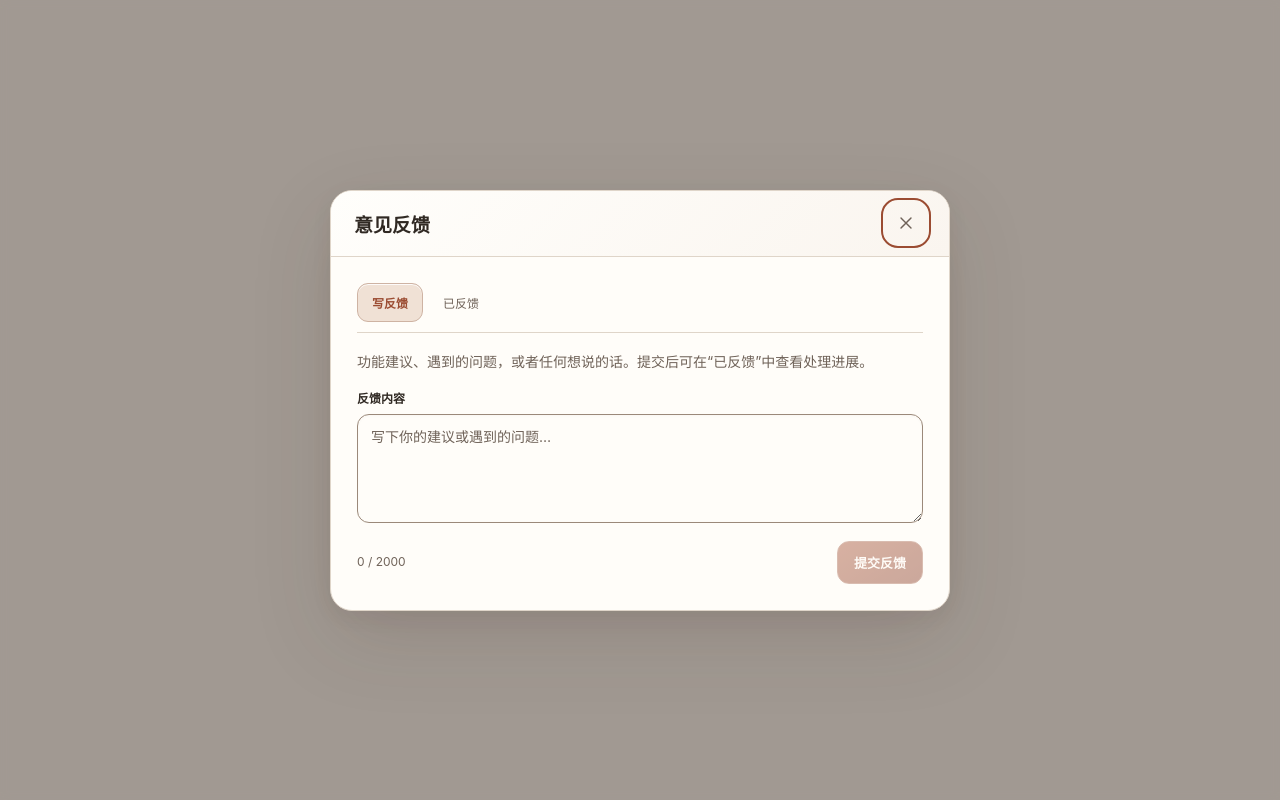
Scenario: keeps a failed feedback draft editable and declares success only after the receipt
Type "手机上的工具按钮挤在一起。" into the text box labelled "反馈内容" at (640, 468), box [357,414,923,522]
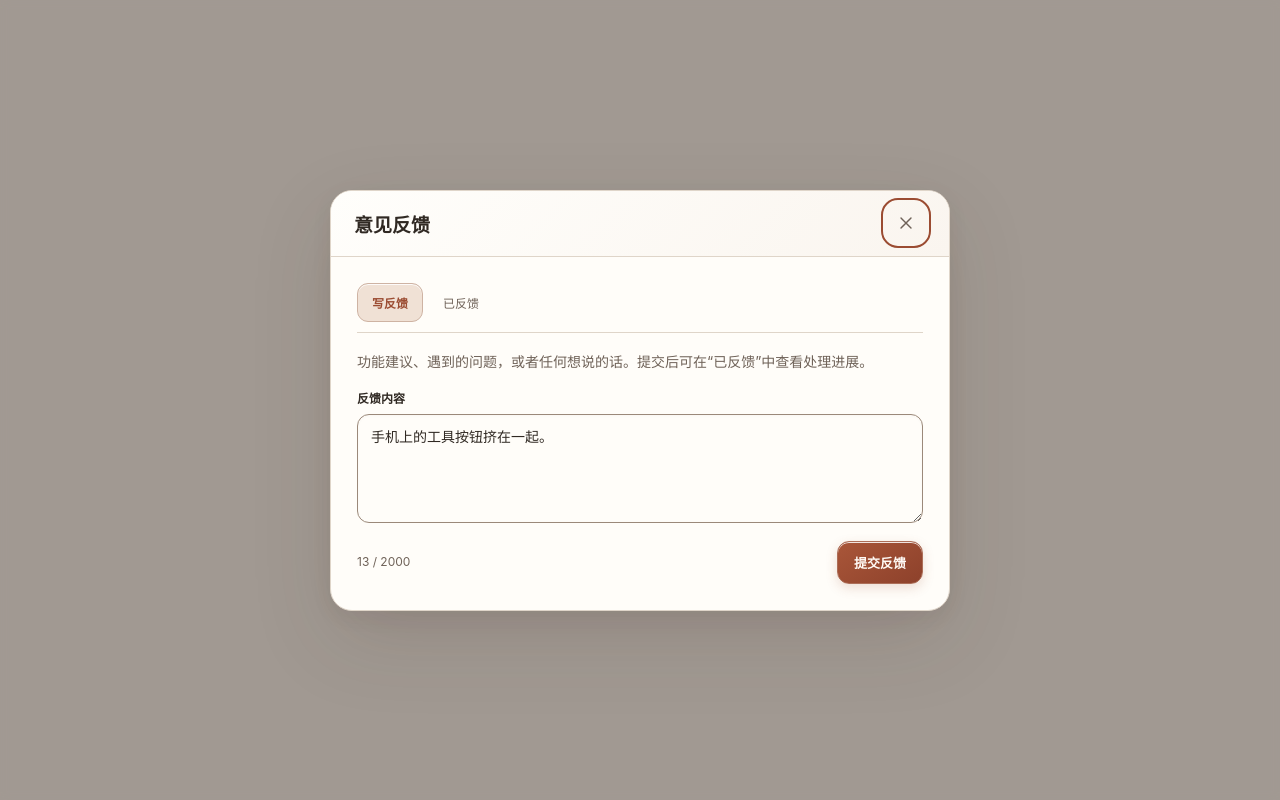
Click the button "提交反馈" at (880, 562), box [837,540,923,584]
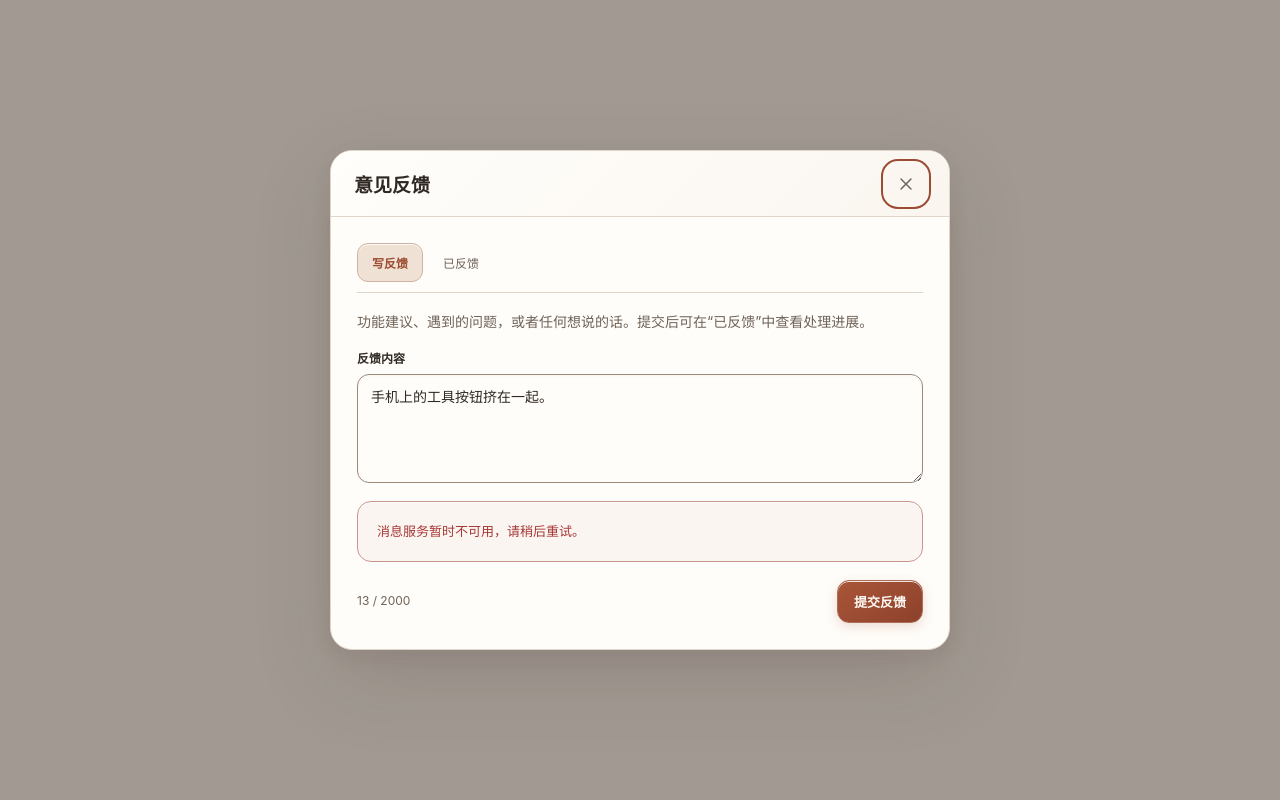
Result: the message "消息服务暂时不可用，请稍后重试。" is shown at [357,502,923,562]
Click the button "提交反馈" at (880, 601), box [837,580,923,622]
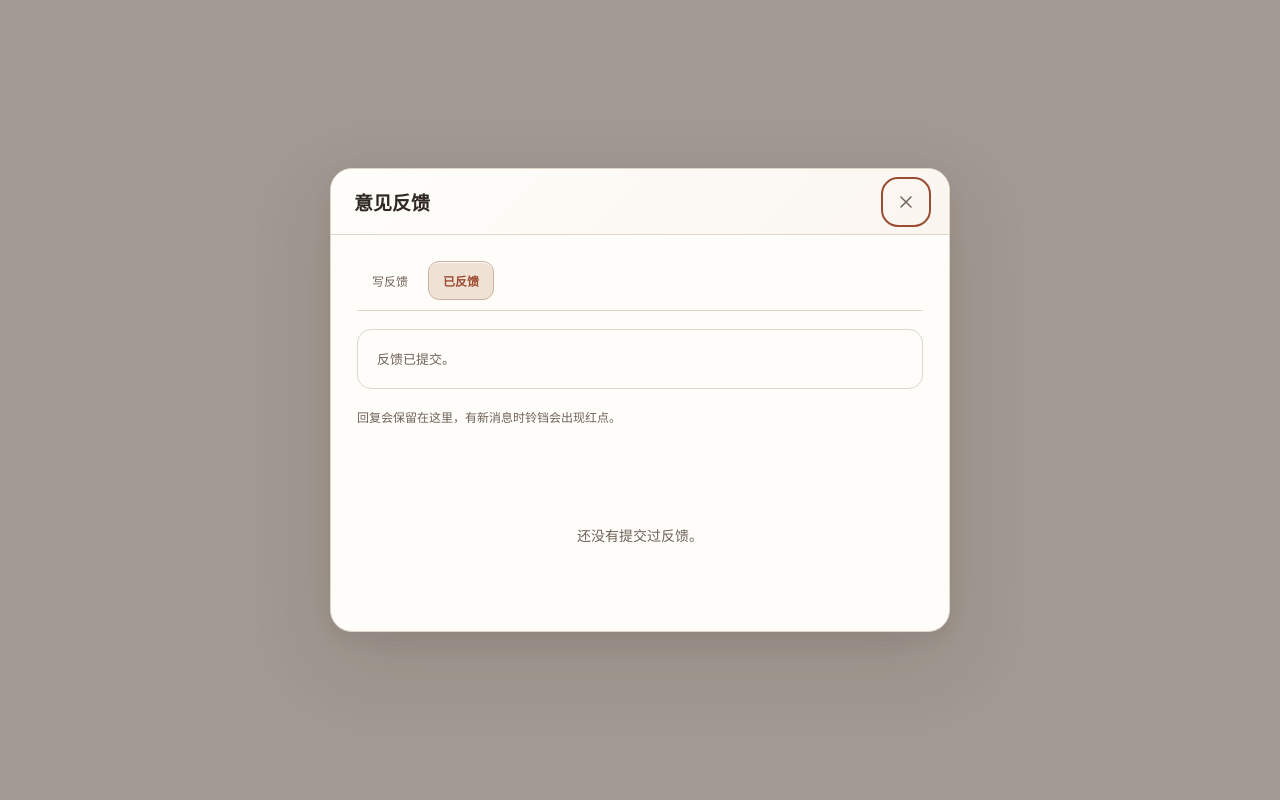
Result: the text "反馈已提交。" is shown at [357,329,923,389]
